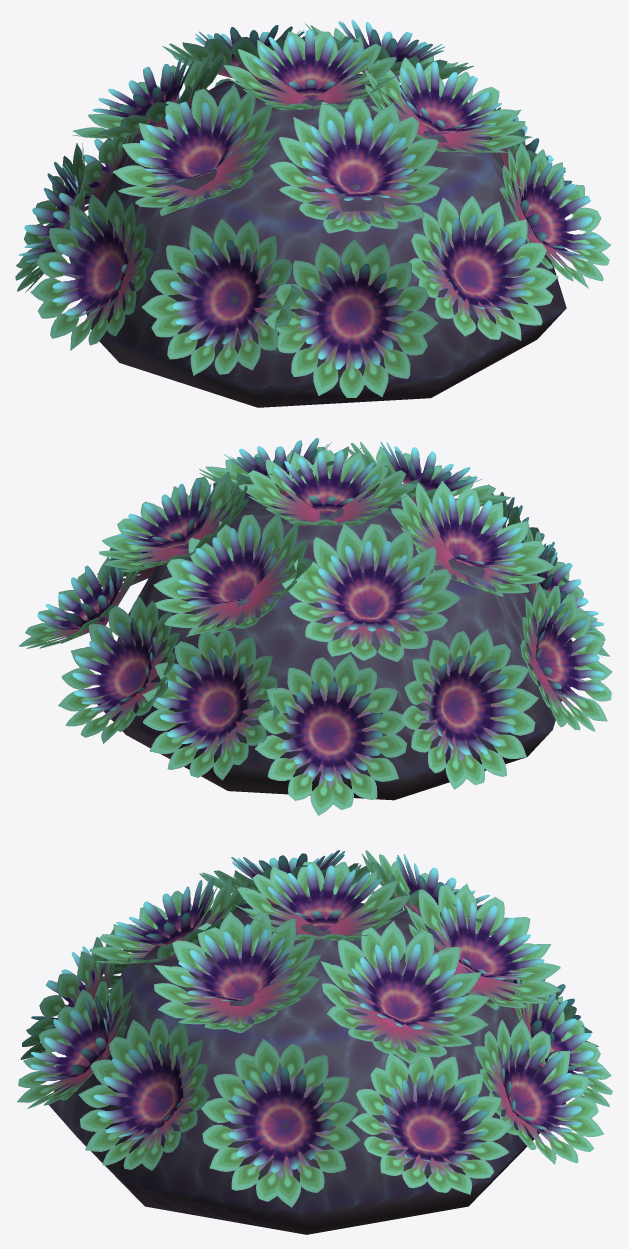
File: Coral_16b.FBX
3 views of the same model, one above another, from view 1: azimuth 30°, elevation 25°; view 2: azimuth 150°, elevation 25°; view 3: azimuth 270°, elevation 25° (orthographic). The views are drawn at different scales.
Visible parts, largest first — view 1: Coral_16b; view 2: Coral_16b; view 3: Coral_16b.
Part boxes in pixels (left/top/right/bottom): Coral_16b: left=15, top=20, right=610, bottom=407; Coral_16b: left=18, top=438, right=612, bottom=815; Coral_16b: left=17, top=850, right=612, bottom=1234.
Size of the model in its own units: 27.88 by 12.72 by 27.27.
